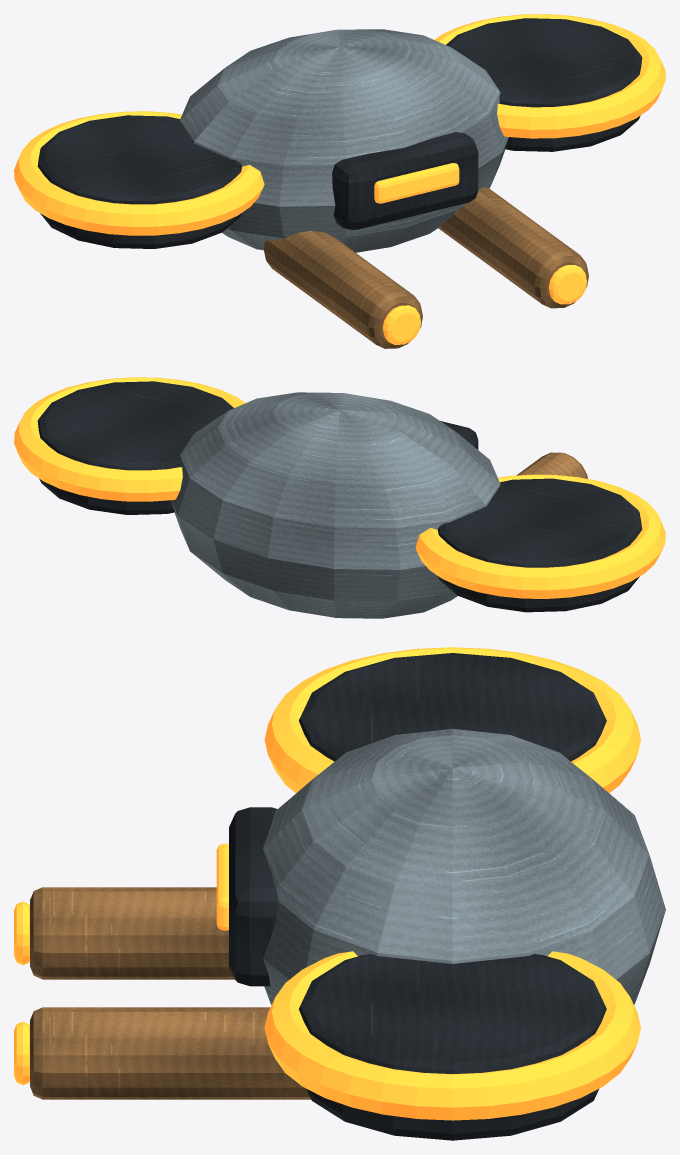
The model's file is summon_mechanical.glb.
The picture shows the model from 3 angles, top to bottom: view 1: azimuth 30°, elevation 25°; view 2: azimuth 150°, elevation 25°; view 3: azimuth 270°, elevation 25°; orthographic projection. The views are drawn at different scales.
Visible parts, largest first — view 1: summon_mechanical; view 2: summon_mechanical; view 3: summon_mechanical.
Boxes of the visible parts, box(x1,y1,x2,y2) form: summon_mechanical: box(14, 14, 665, 348); summon_mechanical: box(14, 377, 665, 618); summon_mechanical: box(14, 647, 665, 1140).
Size of the model in its own units: 1.49 by 0.44 by 0.9175.
4 materials, 3 textured.
